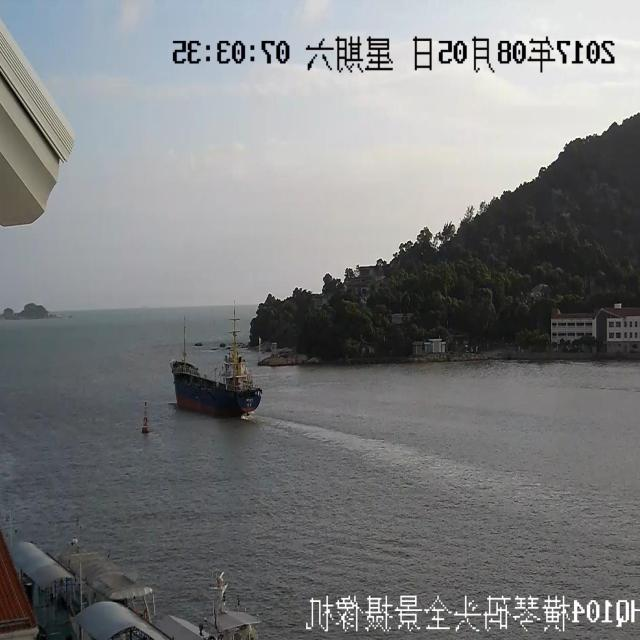buoy: (136, 394, 156, 437)
houseboat: (170, 306, 278, 438)
